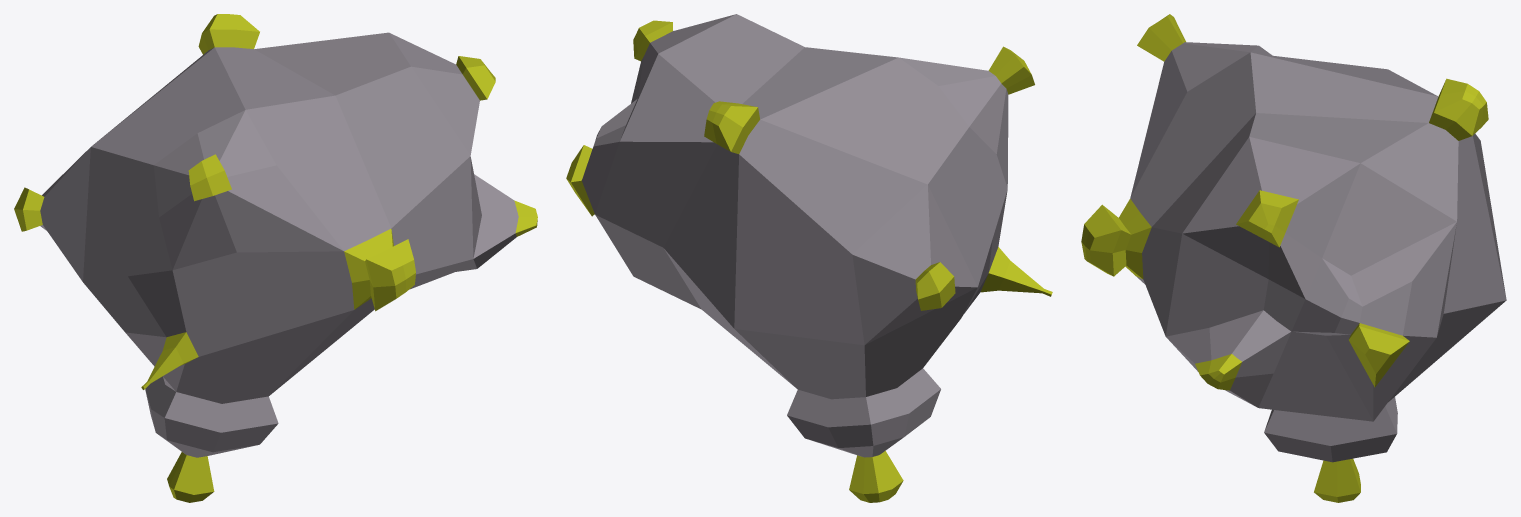
File: GoldVein.fbx
3 renders of one model, left to right at view 1: azimuth 30°, elevation 25°; view 2: azimuth 150°, elevation 25°; view 3: azimuth 270°, elevation 25°, orthographic. The views are drawn at different scales.
Visible parts, largest first — view 1: Cube; view 2: Cube; view 3: Cube.
Part boxes in pixels (x1,y1,x2,y2): Cube: (14, 14, 537, 502); Cube: (566, 14, 1052, 502); Cube: (1081, 14, 1506, 502).
Bounding box in the file's own units: 70.11 × 67.64 × 56.45.
